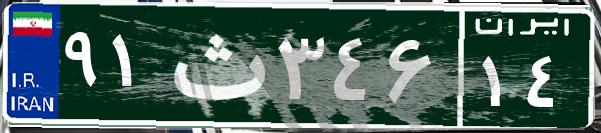1: (475, 38, 525, 113), (110, 28, 158, 105)
3: (273, 28, 330, 110)
4: (330, 28, 385, 110), (525, 38, 570, 115)
6: (385, 28, 445, 110)
9: (57, 26, 110, 107)
ث: (158, 15, 273, 115)
